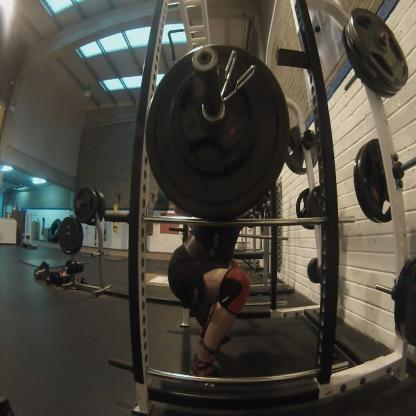Barbell: (147, 40, 293, 224), (345, 3, 414, 98)
